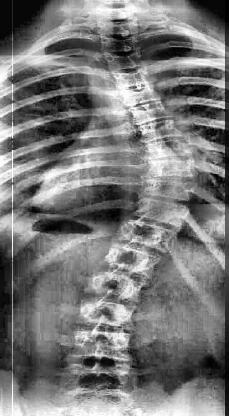Vertebrae: (64, 359, 134, 391), (72, 328, 129, 362), (80, 294, 136, 328), (85, 270, 146, 300), (106, 244, 158, 278), (134, 199, 192, 229), (119, 220, 175, 250), (144, 178, 198, 202), (149, 159, 197, 181), (126, 101, 169, 125), (144, 142, 196, 160), (113, 68, 155, 90), (141, 118, 181, 139), (98, 33, 140, 53), (121, 84, 162, 104), (104, 48, 140, 68)
